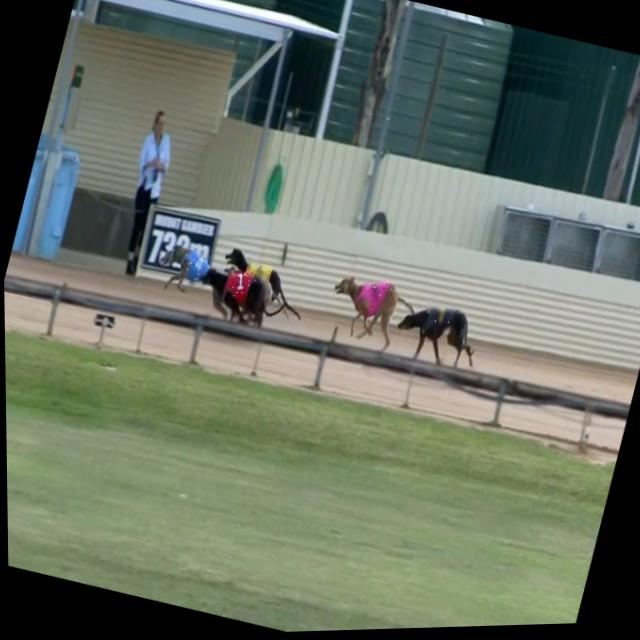dog_eight: (357, 279, 392, 315)
dog_five: (242, 261, 271, 288)
dog_four: (177, 251, 209, 289)
dog_one: (221, 269, 254, 302)
dog_seven: (420, 302, 461, 339)
rail: (3, 274, 629, 425)
